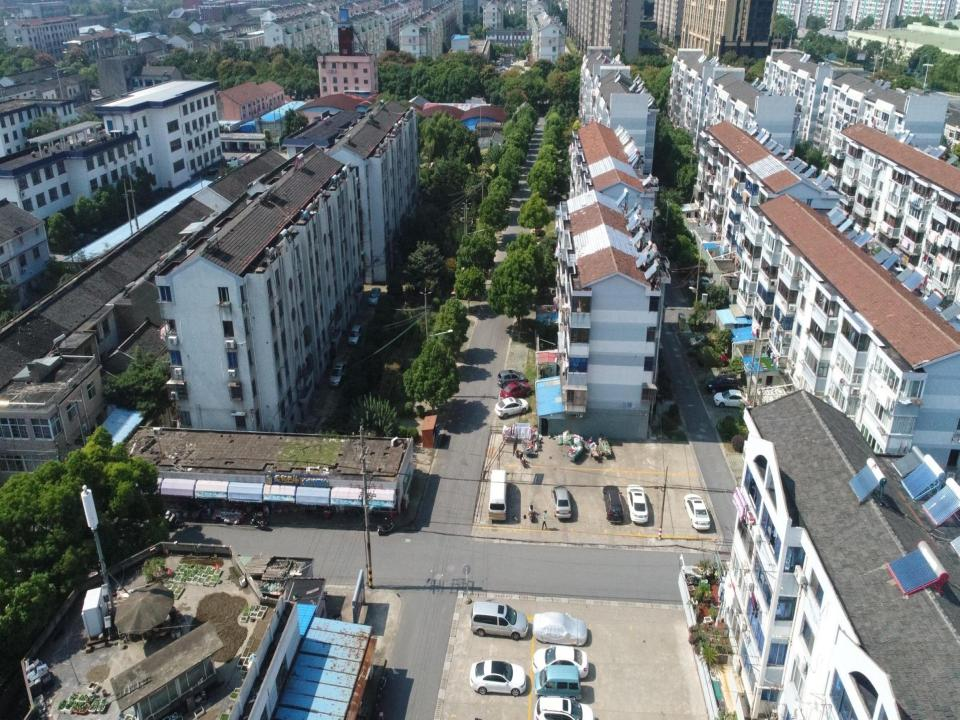car: (469, 662, 528, 698), (531, 610, 588, 646), (532, 644, 588, 680), (682, 492, 711, 532), (627, 483, 651, 526), (603, 481, 625, 526), (550, 483, 572, 520), (493, 397, 529, 419), (712, 390, 747, 410), (499, 381, 532, 401), (705, 374, 738, 394), (496, 369, 527, 388), (328, 361, 346, 387), (700, 353, 728, 368), (688, 334, 712, 349), (348, 323, 363, 346), (367, 287, 382, 307), (532, 218, 542, 234)
van: (468, 599, 529, 641), (532, 664, 582, 702), (534, 695, 595, 719), (487, 468, 510, 523)
